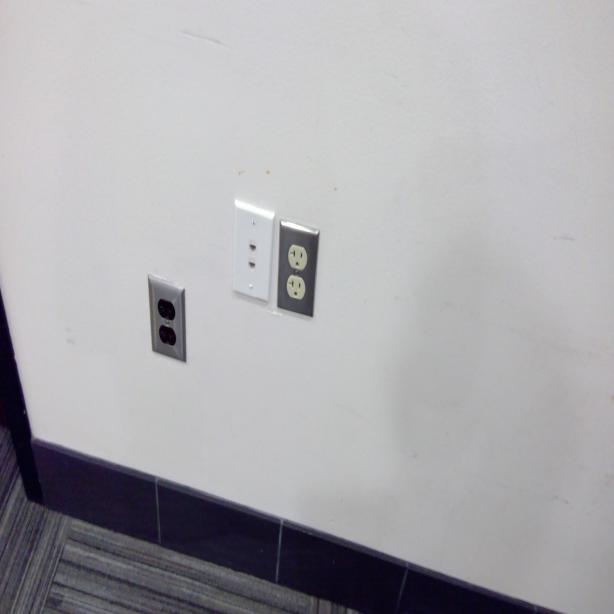typeb: (286, 274, 306, 304), (288, 242, 306, 272)
